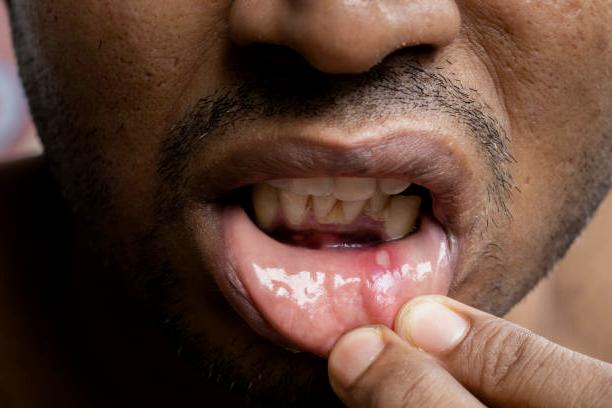Discoloration: (355, 205, 399, 226), (322, 198, 350, 221), (298, 197, 320, 222)
Ulcer: (356, 240, 406, 279)
